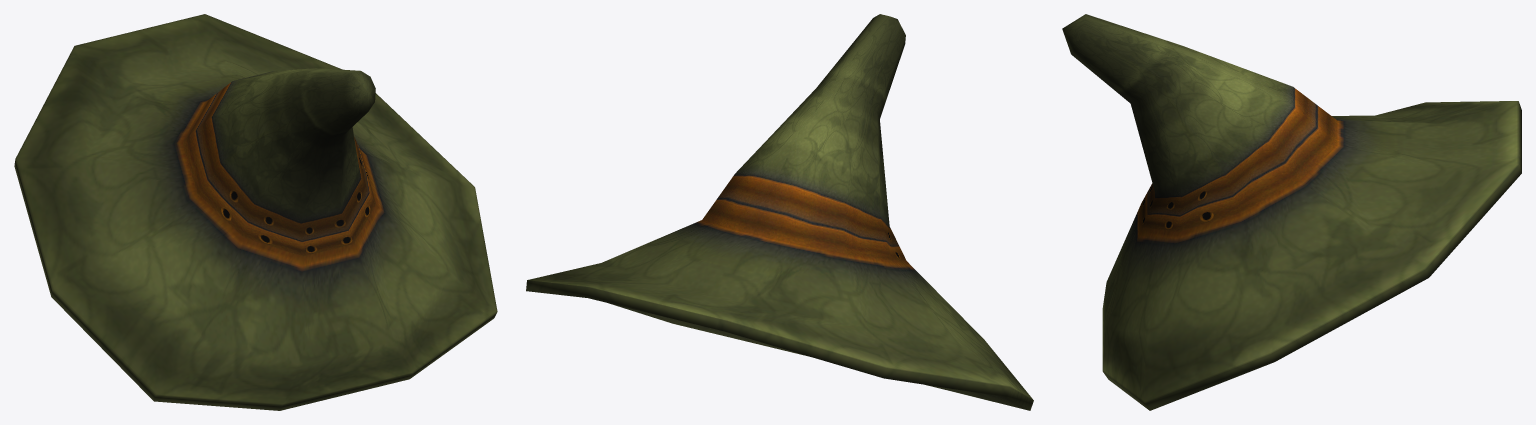
Rendered from hat03.FBX.
The picture shows the model from 3 angles, left to right: view 1: azimuth 30°, elevation 25°; view 2: azimuth 150°, elevation 25°; view 3: azimuth 270°, elevation 25°; orthographic projection. The views are drawn at different scales.
Visible parts, largest first — view 1: hat03; view 2: hat03; view 3: hat03.
Boxes of the visible parts, x1,y1,x2,y2 form: hat03: [14, 14, 497, 410]; hat03: [526, 14, 1033, 410]; hat03: [1062, 14, 1521, 410].
Size of the model in its own units: 0.5808 by 0.435 by 0.5469.
